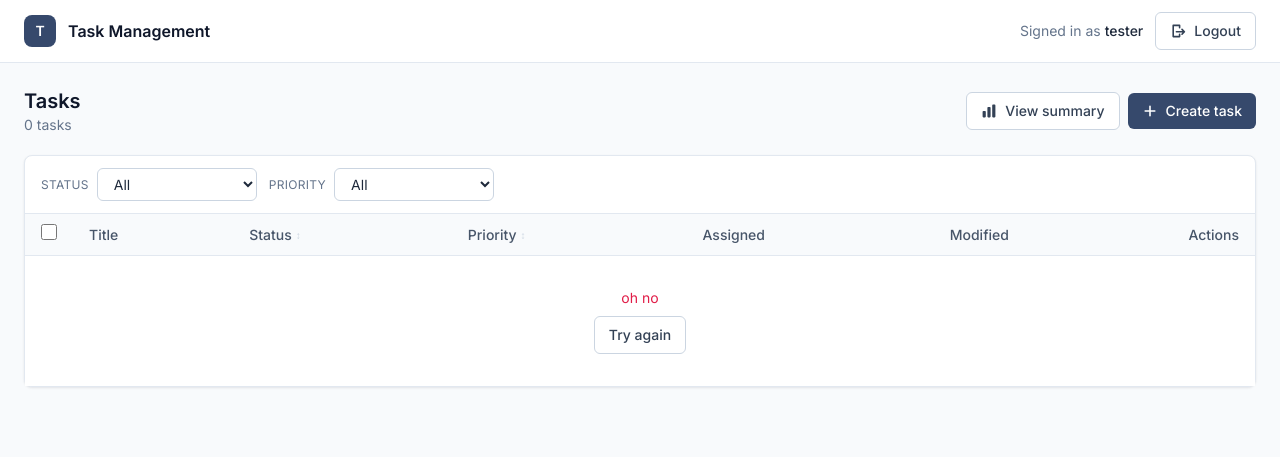
Test case: <TasksPage /> integration › shows error state with a Try again button when the API fails
This screenshot has width=1280, height=457.
Expected: the text "oh no" is shown, [621, 289, 659, 306]
Click the button "Try again". click: (640, 335)
box: [594, 316, 686, 354]
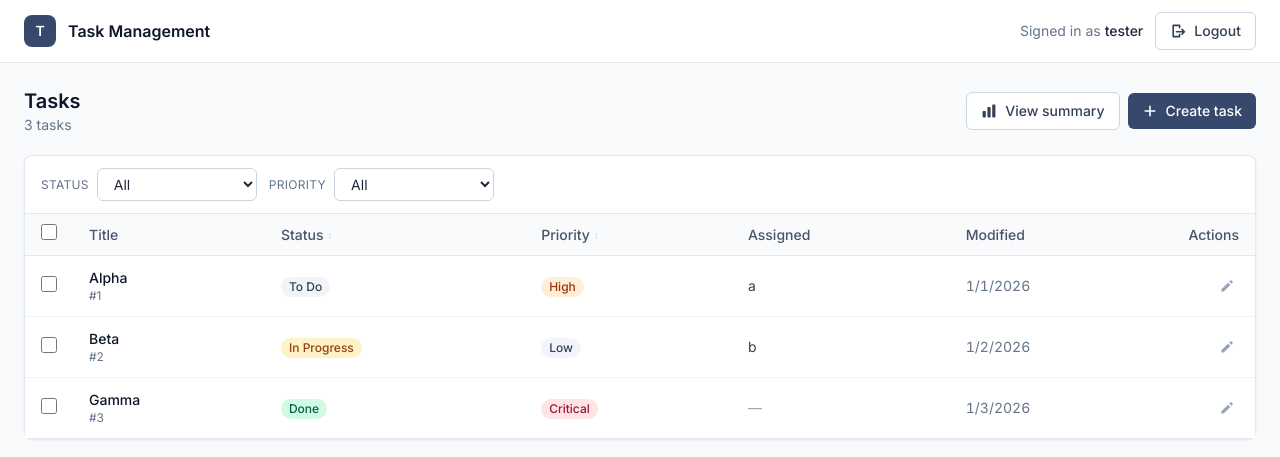
Expected: the button "Alpha" is shown, [89, 268, 128, 288]
